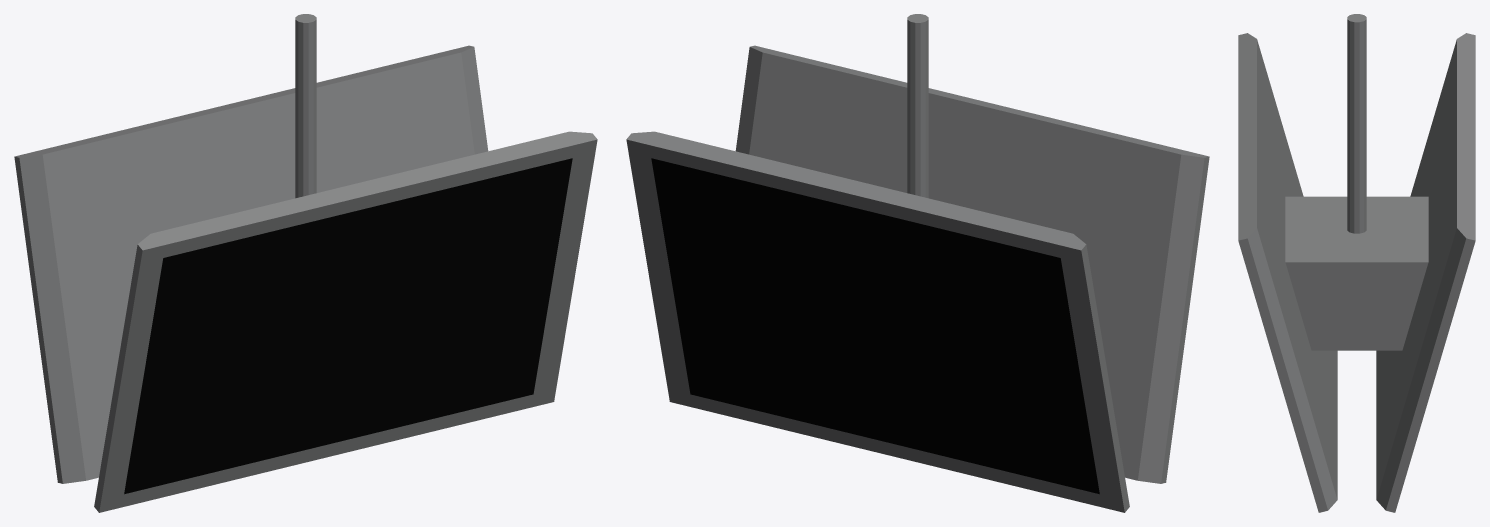
File: beijing_pids_a2.obj
3 views of the same model, side by side, from view 1: azimuth 30°, elevation 25°; view 2: azimuth 150°, elevation 25°; view 3: azimuth 270°, elevation 25° (orthographic). The views are drawn at different scales.
Visible parts, largest first — view 1: cube, cylinder; view 2: cube, cylinder; view 3: cube, cylinder.
Part boxes in pixels (x1,y1,x2,y2): cube: (14, 45, 597, 512); cylinder: (295, 14, 316, 198); cube: (626, 45, 1209, 512); cylinder: (907, 14, 928, 198); cube: (1238, 33, 1475, 512); cylinder: (1347, 14, 1366, 233).
Bounding box in the file's own units: 1.56 × 1.39 × 0.7634.
Materials: 2 (2 with a texture image).
